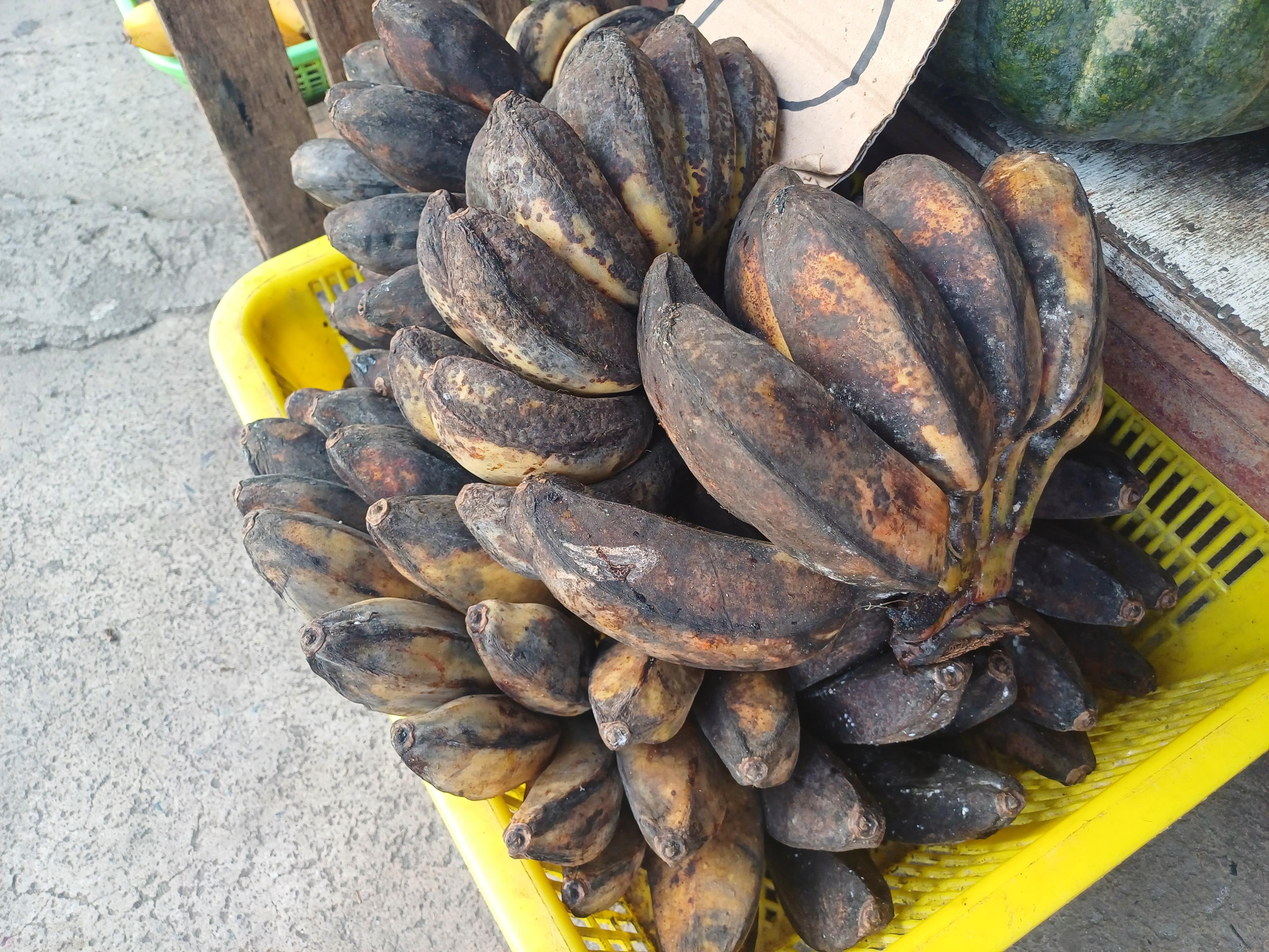overripe: (230, 347, 801, 952), (503, 151, 1107, 670), (390, 14, 776, 579), (761, 608, 1028, 952), (290, 0, 550, 351), (972, 433, 1185, 784)
